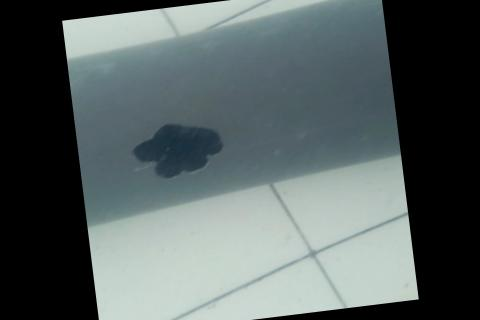kebocoran: (124, 115, 230, 183)
